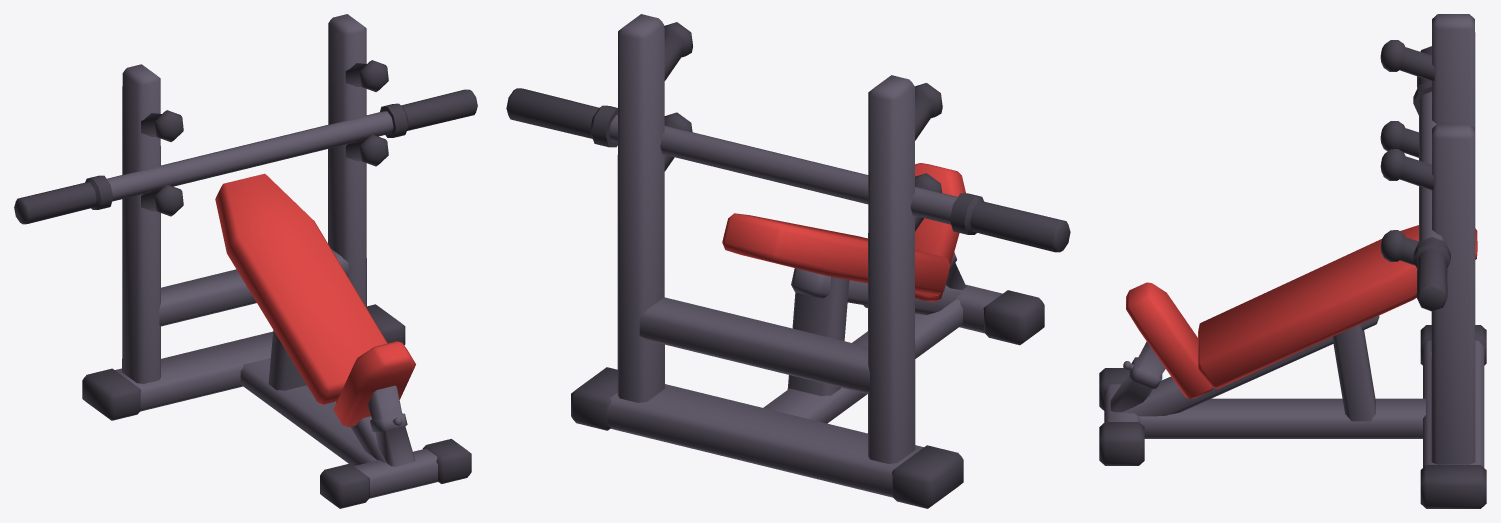
Rendered from Incline_Bench_Press_v01.fbx.
3 renders of one model, left to right at view 1: azimuth 30°, elevation 25°; view 2: azimuth 150°, elevation 25°; view 3: azimuth 270°, elevation 25°, orthographic. The views are drawn at different scales.
Visible parts, largest first — view 1: Incline_Bench_Press_v01; view 2: Incline_Bench_Press_v01; view 3: Incline_Bench_Press_v01.
Part boxes in pixels (box(x1,y1,x2,y2)): Incline_Bench_Press_v01: box(14, 14, 477, 508); Incline_Bench_Press_v01: box(506, 14, 1070, 508); Incline_Bench_Press_v01: box(1099, 14, 1486, 508).
Bounding box in the file's own units: 1.55 × 1.08 × 1.05.
Materials: 1 (1 with a texture image).
